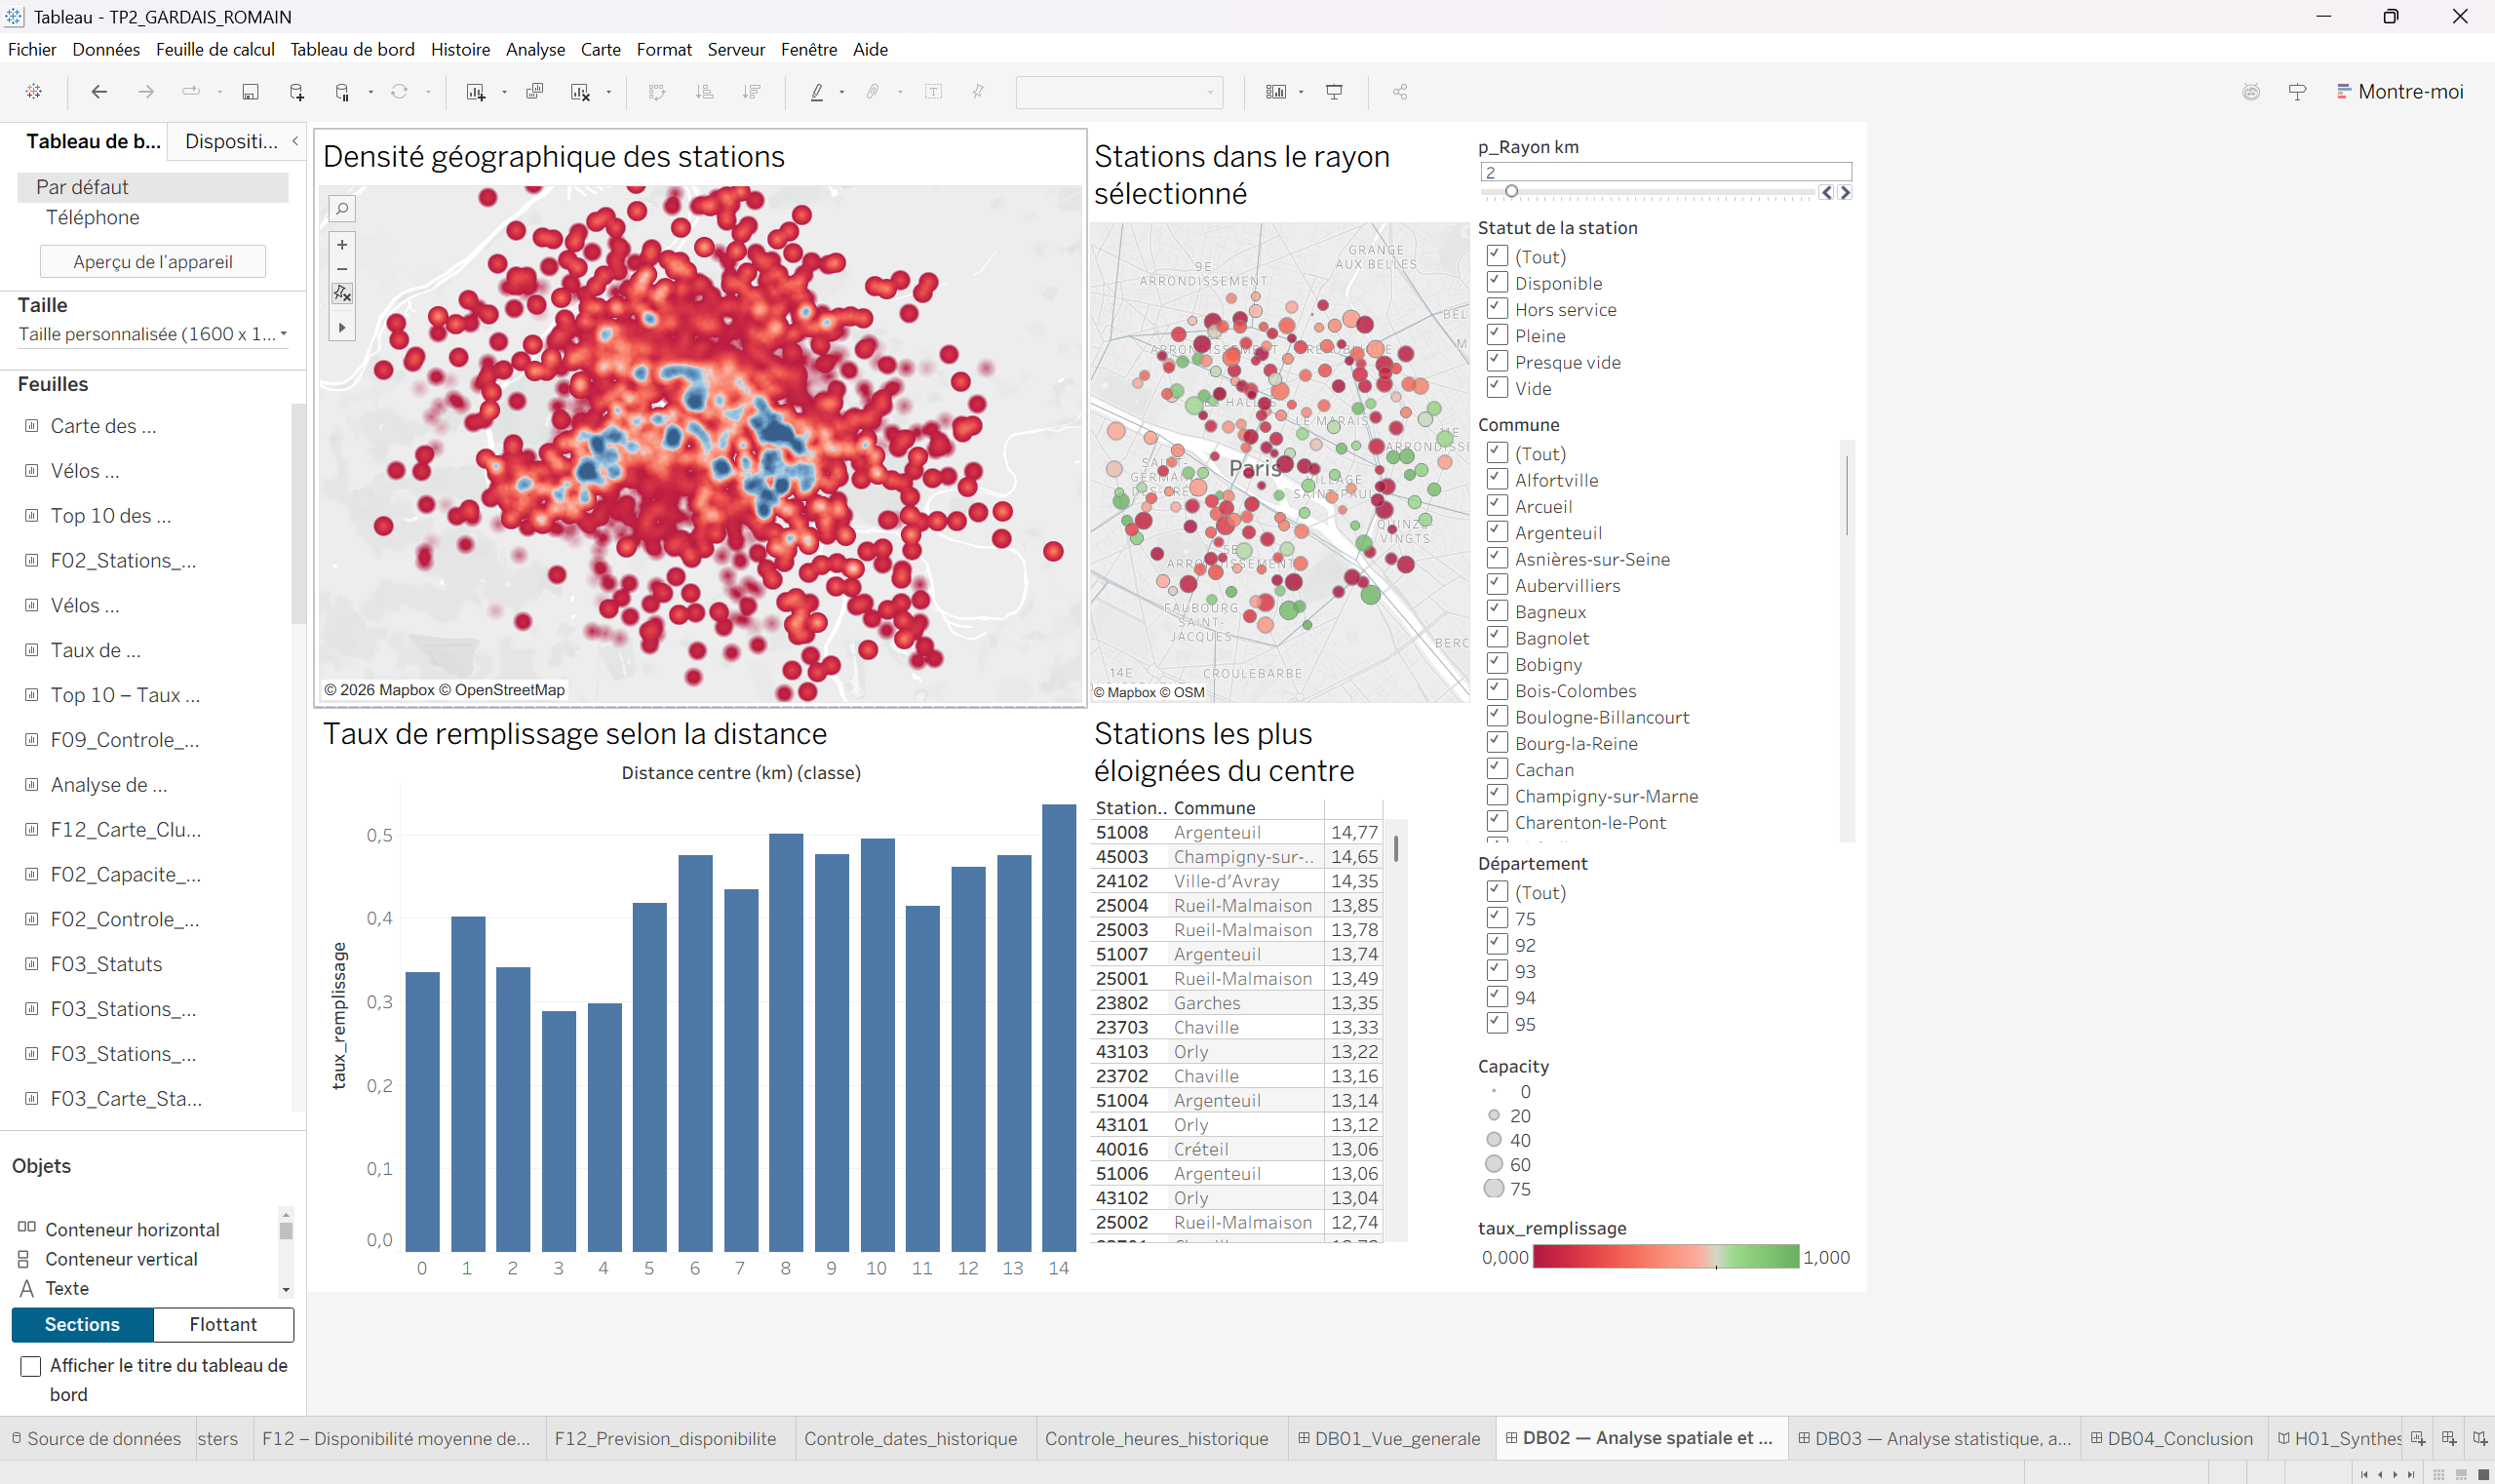

The dashboard page shown, as its layout file describes it:
{"tool":"tableau","page":{"name":"DB02 — Analyse spatiale et accessibilité des stations Vélib'","canvas":[1600,1200],"ordinal":1},"visuals":[{"type":"worksheet","title":"F06_Densite","mark":"Heatmap","rows":["lat"],"cols":["lon"],"box":[8,8,790.7,592]},{"type":"worksheet","title":"F06_Rayon","mark":"Circle","rows":["lat"],"cols":["lon"],"box":[798.7,8,398,592]},{"type":"parameter","param":"[Parameters].[Paramètre 1854385535676417]","box":[1196.7,8,395.3,83]},{"type":"filter","title":"F06_Rayon","param":"[federated.0wbndu419myje41cqwui41aiyuwq].[none:Calculation_0956084298629127:nk]","box":[1196.7,91,395.3,202]},{"type":"filter","title":"F06_Rayon","param":"[federated.0wbndu419myje41cqwui41aiyuwq].[none:commune:nk]","box":[1196.7,293,395.3,450]},{"type":"worksheet","title":"F06_Taux_distance","mark":"Automatic","rows":["Calculation_0956084285296645"],"cols":["Distance centre (km) (classe)"],"box":[8,600,790.7,592]},{"type":"worksheet","title":"F06_Station_plus_eloignee","mark":"Automatic","rows":["stationcode","commune"],"box":[798.7,600,398,592]},{"type":"filter","title":"F06_Rayon","param":"[federated.0wbndu419myje41cqwui41aiyuwq].[none:Calculation_0956084296425478:nk]","box":[1196.7,743,395.3,208]},{"type":"legend","title":"F06_Rayon","param":"[federated.0wbndu419myje41cqwui41aiyuwq].[sum:capacity:qk]","box":[1196.7,951,395.3,166]},{"type":"legend","title":"F06_Rayon","param":"[federated.0wbndu419myje41cqwui41aiyuwq].[usr:Calculation_0956084285296645:qk]","box":[1196.7,1117,395.3,75]}]}

Visuals, with their boxes on the page's 1600x1200 design canvas (x1, y1, x2, y2). These are canvas units, not pixel positions in the 2495x1484 screenshot, which may show the page scaled, cropped or inside an application window:
"F06_Densite" worksheet (Heatmap marks): [8, 8, 799, 600]
"F06_Rayon" worksheet (Circle marks): [799, 8, 1197, 600]
parameter: [1197, 8, 1592, 91]
"F06_Rayon" filter: [1197, 91, 1592, 293]
"F06_Rayon" filter: [1197, 293, 1592, 743]
"F06_Taux_distance" worksheet: [8, 600, 799, 1192]
"F06_Station_plus_eloignee" worksheet: [799, 600, 1197, 1192]
"F06_Rayon" filter: [1197, 743, 1592, 951]
"F06_Rayon" legend: [1197, 951, 1592, 1117]
"F06_Rayon" legend: [1197, 1117, 1592, 1192]
